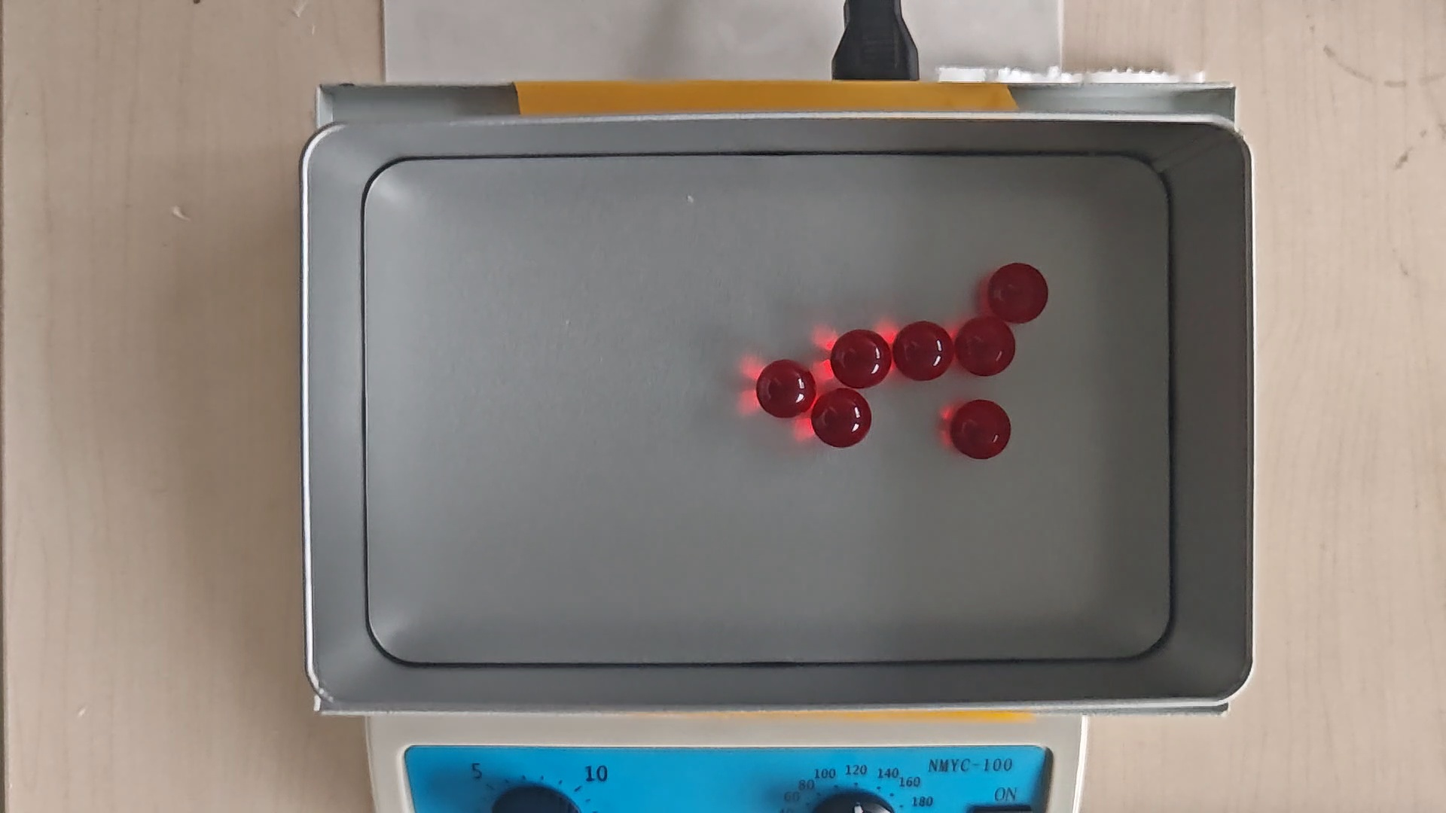ball: (952, 400, 1011, 461), (813, 388, 871, 449), (895, 321, 953, 382), (955, 318, 1016, 376), (989, 263, 1048, 321), (834, 330, 889, 386), (760, 361, 813, 419)
container: (359, 153, 1173, 663)
